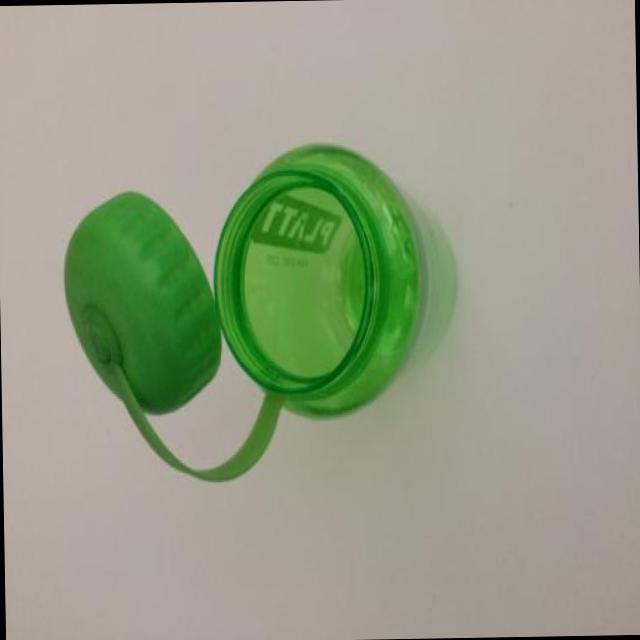Trash: (57, 138, 426, 486)
